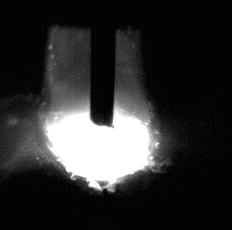arame: (91, 0, 115, 130)
poca: (48, 0, 149, 230)
